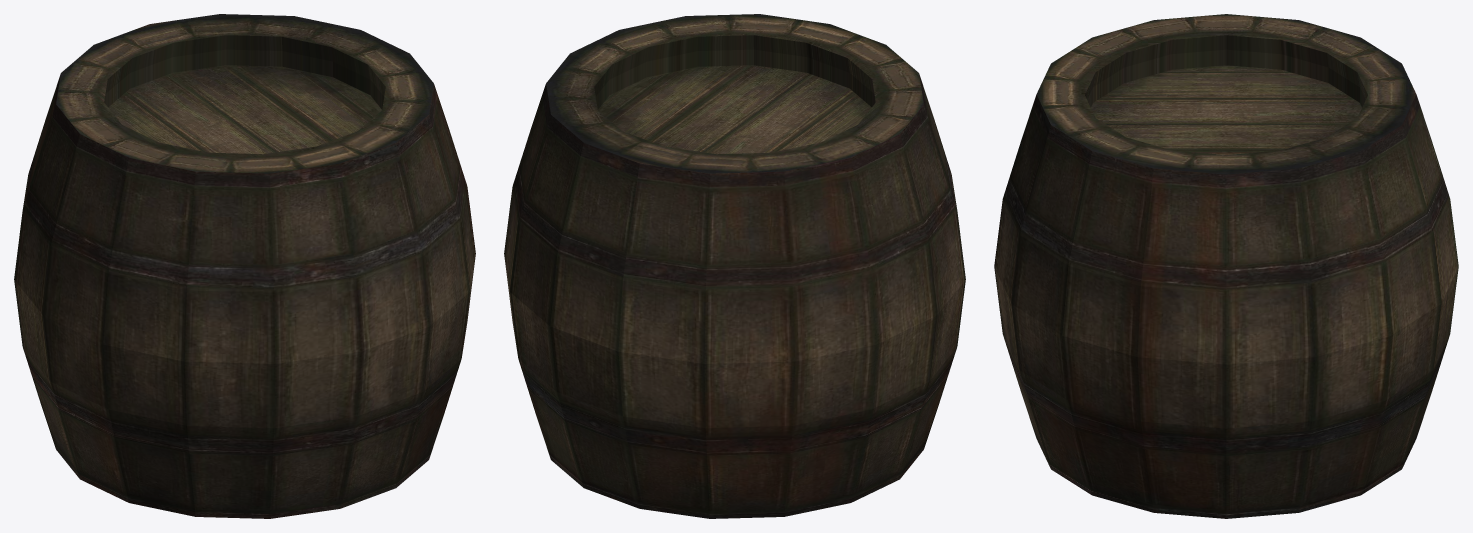
The model's file is barrilDefinitivo.fbx.
3 renders of one model, left to right at view 1: azimuth 30°, elevation 25°; view 2: azimuth 150°, elevation 25°; view 3: azimuth 270°, elevation 25°, orthographic.
Parts seen in each view (by area): view 1: Cylinder; view 2: Cylinder; view 3: Cylinder.
Part boxes in pixels (bbox=[...]): Cylinder: bbox=[14, 14, 475, 518]; Cylinder: bbox=[504, 14, 965, 518]; Cylinder: bbox=[994, 14, 1458, 518].
Size of the model in its own units: 249 by 204 by 249.
1 material, 1 textured.
